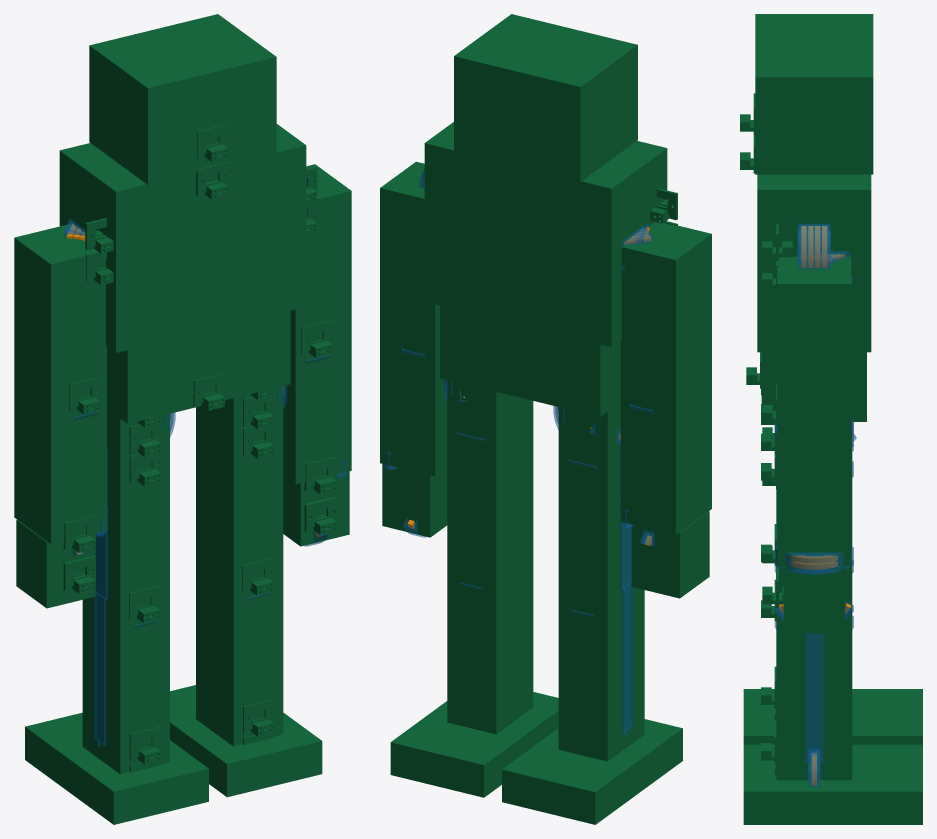
The model's file is HR-30_articulated_power_harness_candidate.glb.
3 views of the same model, side by side, from view 1: azimuth 30°, elevation 25°; view 2: azimuth 150°, elevation 25°; view 3: azimuth 270°, elevation 25° (orthographic). The views are drawn at different scales.
Visible parts, largest first — view 1: HR30_25_AXIS_FIXED_TRANSITIONS, GD-R_ANKLE_PITCH_LINK_GUARD, GD-R_KNEE_PITCH_LINK_GUARD; view 2: HR30_25_AXIS_FIXED_TRANSITIONS, GD-R_ANKLE_PITCH_LINK_GUARD, GD-R_KNEE_PITCH_LINK_GUARD; view 3: HR30_25_AXIS_FIXED_TRANSITIONS, GD-L_ANKLE_PITCH_LINK_GUARD, GD-L_SHOULDER_ROLL_FLEX_GUARD, GD-L_WRIST_ROTATION_FLEX_GUARD, GD-L_ANKLE_ROLL_FLEX_GUARD.
Boxes of the visible parts, box(x1,y1,x2,y2) form: HR30_25_AXIS_FIXED_TRANSITIONS: box(14, 14, 351, 824); GD-R_ANKLE_PITCH_LINK_GUARD: box(94, 591, 105, 745); GD-R_KNEE_PITCH_LINK_GUARD: box(95, 447, 107, 599); HR30_25_AXIS_FIXED_TRANSITIONS: box(380, 14, 711, 824); GD-R_ANKLE_PITCH_LINK_GUARD: box(621, 582, 633, 733); GD-R_KNEE_PITCH_LINK_GUARD: box(620, 445, 631, 589); HR30_25_AXIS_FIXED_TRANSITIONS: box(740, 14, 922, 824); GD-L_ANKLE_PITCH_LINK_GUARD: box(804, 633, 823, 762); GD-L_SHOULDER_ROLL_FLEX_GUARD: box(797, 223, 830, 268); GD-L_WRIST_ROTATION_FLEX_GUARD: box(774, 547, 853, 574); GD-L_ANKLE_ROLL_FLEX_GUARD: box(808, 749, 820, 787).
Bounding box in the file's own units: 344 × 765 × 173.
